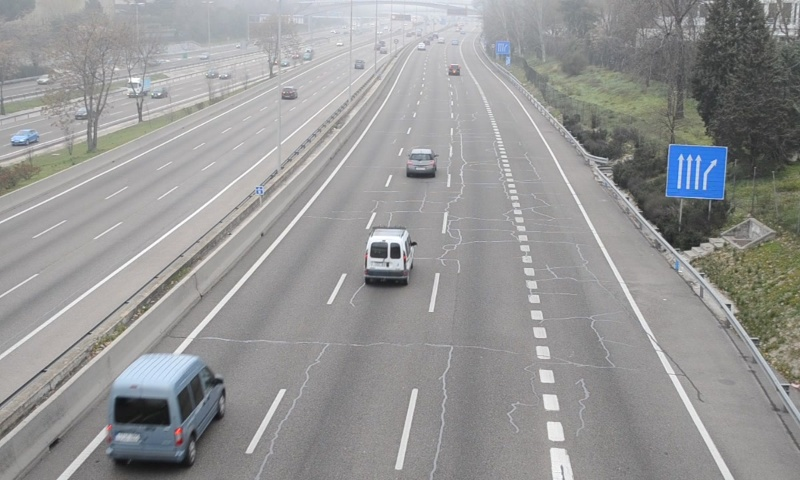car: (406, 148, 436, 176)
van: (106, 354, 225, 462), (364, 228, 412, 282)
